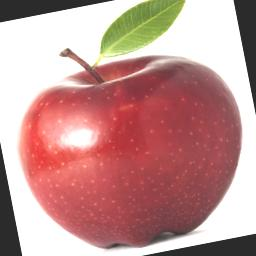Apple Ripe: (1, 30, 256, 256)
